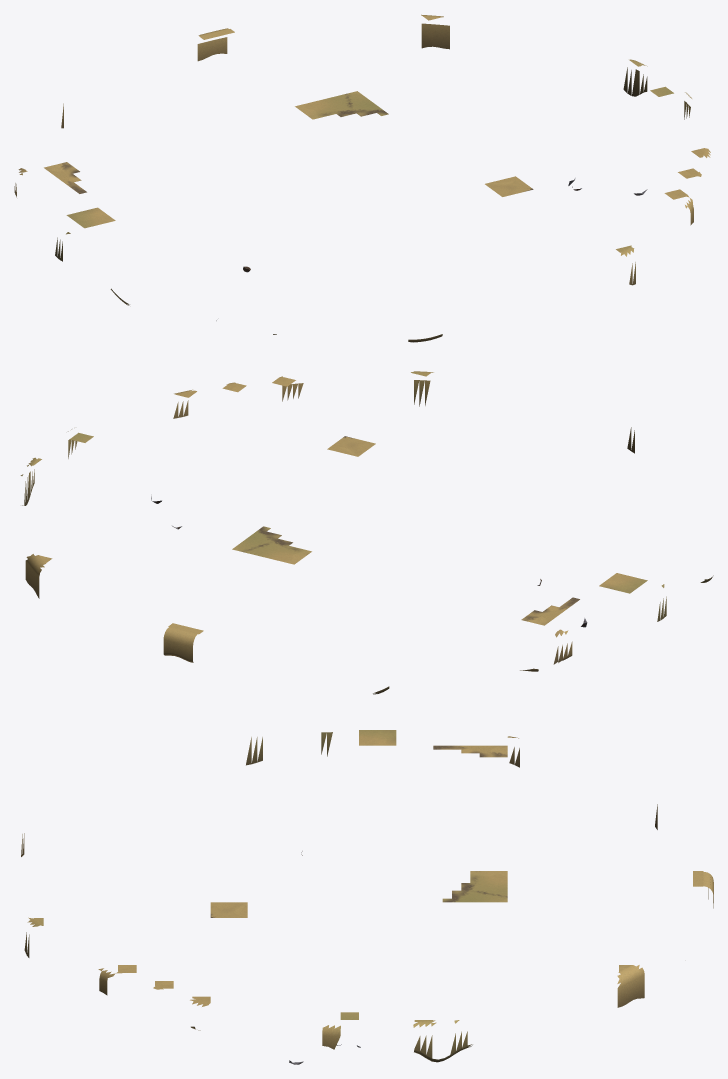
The picture shows the model from 3 angles, top to bottom: view 1: azimuth 30°, elevation 25°; view 2: azimuth 150°, elevation 25°; view 3: azimuth 270°, elevation 25°; orthographic projection. The views are drawn at different scales.
Parts seen in each view (by area): view 1: Grass_0_1_0, Grass_3_3_0_010, Grass_0_4_0_010, Grass_-4_1_0, Grass_-5_0_0_100, Grass_1_-2_0_000; view 2: Grass_0_1_0, Grass_0_4_0_010, Grass_3_3_0_010, Grass_-4_1_0, Grass_-5_0_0_100, Grass_1_-2_0_000; view 3: Grass_0_1_0, Grass_3_3_0_010, Grass_-4_1_0, Grass_-5_0_0_100, Grass_1_-2_0_000.
Boxes of the visible parts, x1,y1,x2,y2 form: Grass_0_1_0: [295, 91, 388, 119]; Grass_3_3_0_010: [421, 14, 449, 49]; Grass_0_4_0_010: [197, 28, 234, 61]; Grass_-4_1_0: [44, 162, 86, 193]; Grass_-5_0_0_100: [66, 207, 115, 228]; Grass_1_-2_0_000: [485, 176, 533, 196]; Grass_0_1_0: [232, 526, 311, 564]; Grass_0_4_0_010: [163, 623, 203, 662]; Grass_3_3_0_010: [25, 554, 52, 598]; Grass_-4_1_0: [521, 597, 579, 625]; Grass_-5_0_0_100: [599, 573, 647, 593]; Grass_1_-2_0_000: [327, 436, 375, 456]; Grass_0_1_0: [442, 871, 507, 902]; Grass_3_3_0_010: [617, 965, 644, 1007]; Grass_-4_1_0: [433, 745, 507, 757]; Grass_-5_0_0_100: [359, 730, 396, 745]; Grass_1_-2_0_000: [210, 902, 247, 917].
Size of the model in its own units: 628 by 96.06 by 604.
28 materials, 28 textured.
